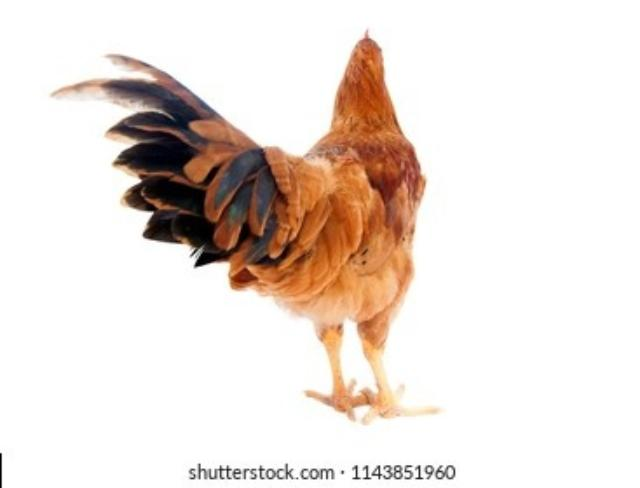Chicken: (52, 28, 444, 423)
